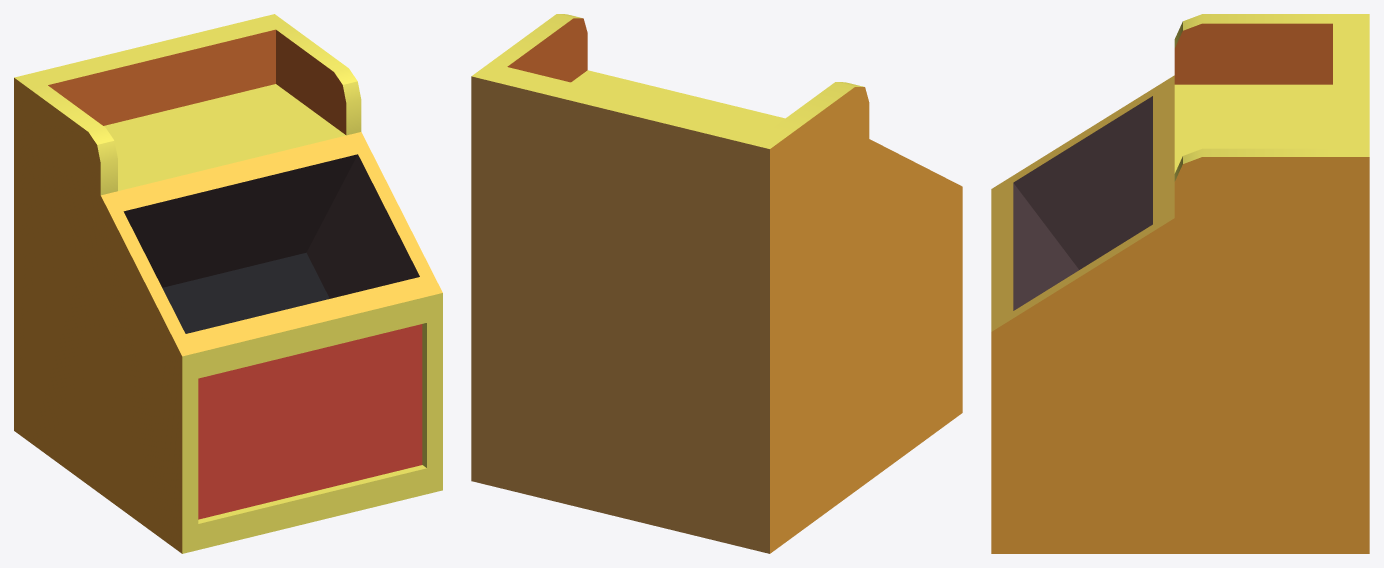
Rendered from Box_Ingredient.fbx.
3 renders of one model, left to right at view 1: azimuth 30°, elevation 25°; view 2: azimuth 150°, elevation 25°; view 3: azimuth 270°, elevation 25°, orthographic. The views are drawn at different scales.
Parts seen in each view (by area): view 1: Box_Ingredient; view 2: Box_Ingredient; view 3: Box_Ingredient.
Part boxes in pixels (left/top/right/bottom): Box_Ingredient: left=14, top=14, right=442, bottom=553; Box_Ingredient: left=471, top=14, right=962, bottom=553; Box_Ingredient: left=991, top=14, right=1369, bottom=553.
Size of the model in its own units: 270 by 350 by 302.
